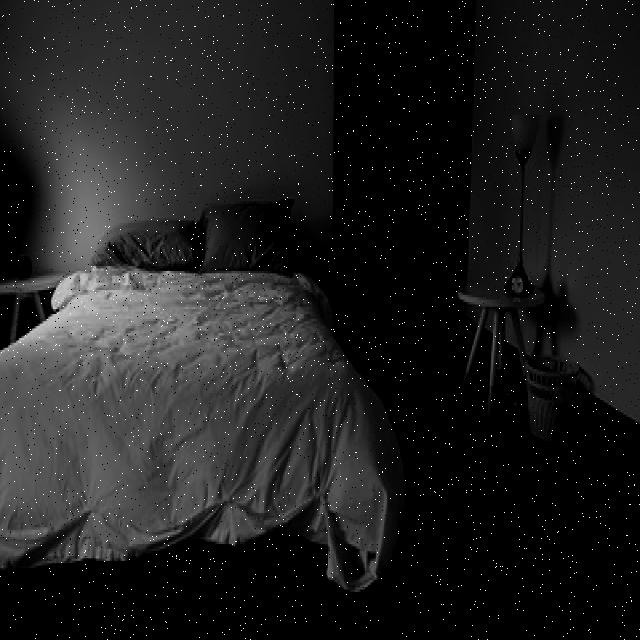bed: (0, 201, 346, 551)
